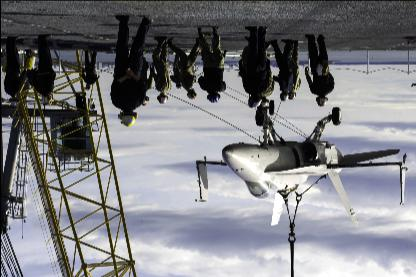F15: (194, 100, 408, 227)
